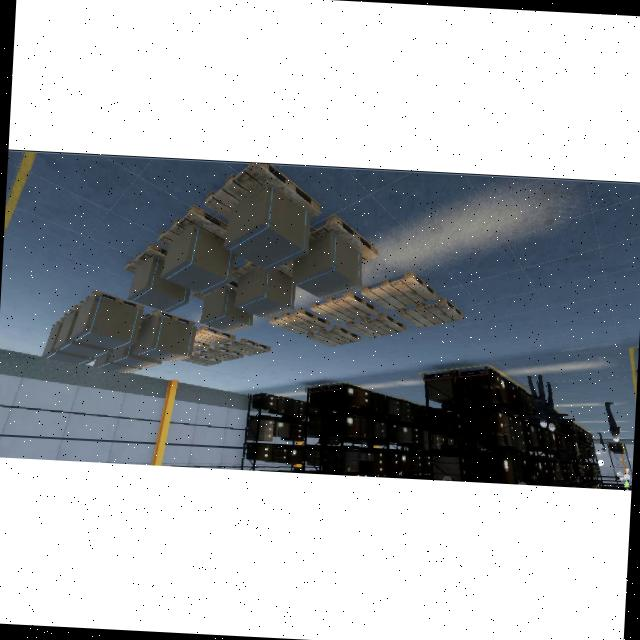wooden_pallet: (204, 163, 322, 220), (309, 216, 378, 264), (157, 204, 228, 248), (361, 272, 438, 312), (310, 291, 379, 324), (397, 298, 466, 329), (347, 312, 407, 339), (269, 310, 330, 336), (125, 242, 168, 274), (306, 325, 362, 348), (79, 291, 145, 310), (143, 309, 195, 326), (223, 338, 271, 356), (195, 326, 237, 346), (200, 346, 244, 363), (181, 352, 222, 368), (192, 341, 211, 354)
